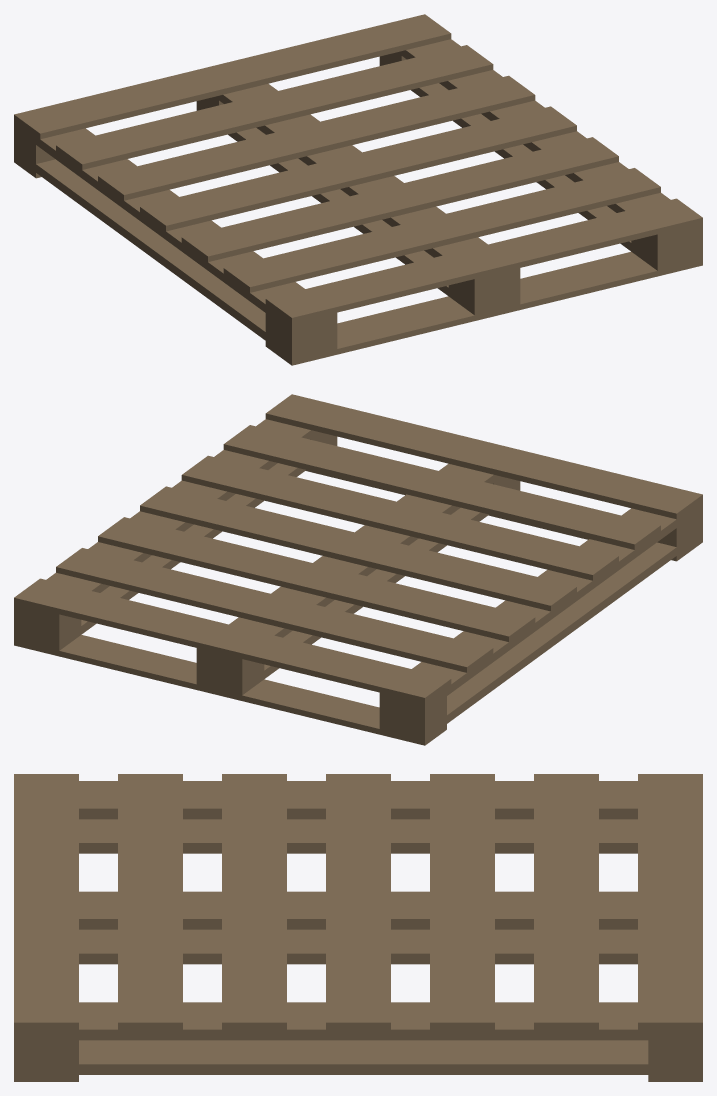
File: Palet.fbx
The picture shows the model from 3 angles, top to bottom: view 1: azimuth 30°, elevation 25°; view 2: azimuth 150°, elevation 25°; view 3: azimuth 270°, elevation 25°; orthographic projection. The views are drawn at different scales.
Parts seen in each view (by area): view 1: Palet; view 2: Palet; view 3: Palet.
Boxes of the visible parts, x1,y1,x2,y2 form: Palet: (14,14,702,365); Palet: (14,394,702,745); Palet: (14,774,702,1081).
Size of the model in its own units: 899 by 99.94 by 1053.
